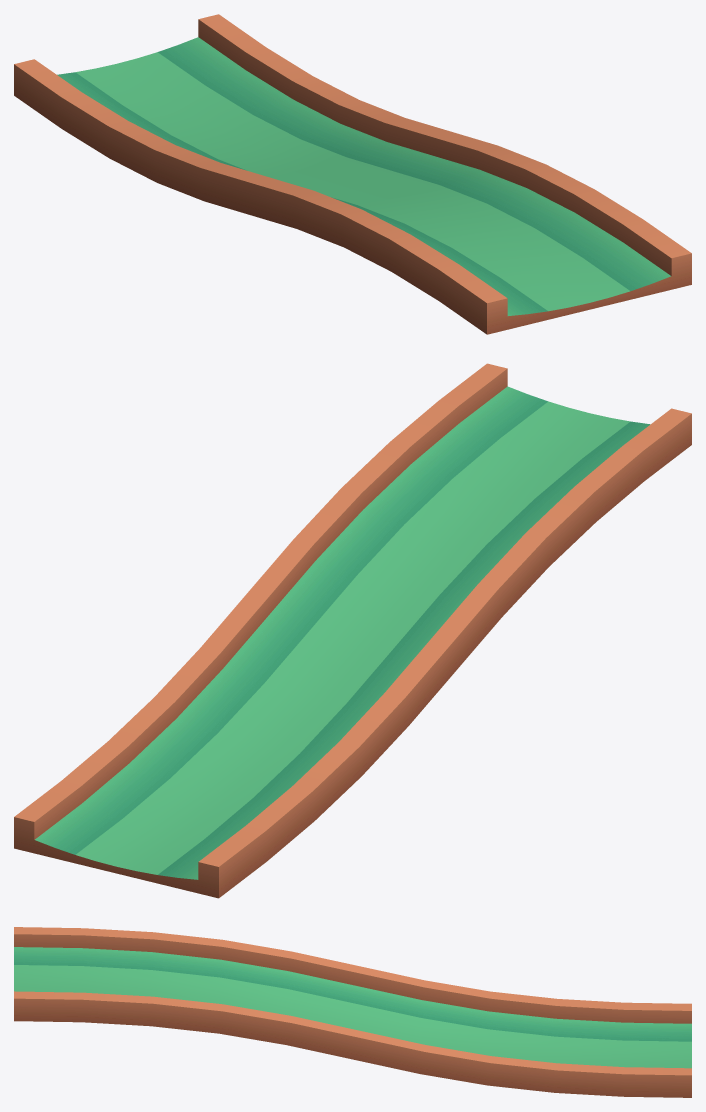
The model's file is spline-concave-straight-hill-complete-half.glb.
The picture shows the model from 3 angles, top to bottom: view 1: azimuth 30°, elevation 25°; view 2: azimuth 150°, elevation 25°; view 3: azimuth 270°, elevation 25°; orthographic projection. The views are drawn at different scales.
Parts seen in each view (by area): view 1: spline-concave-straight-hill-complete-half; view 2: spline-concave-straight-hill-complete-half; view 3: spline-concave-straight-hill-complete-half.
Part boxes in pixels (<box>): spline-concave-straight-hill-complete-half: <box>14,14,691,334</box>; spline-concave-straight-hill-complete-half: <box>14,363,691,898</box>; spline-concave-straight-hill-complete-half: <box>14,927,691,1097</box>.
Size of the model in its own units: 0.9998 by 0.6468 by 4.
Materials: 1 (1 with a texture image).
